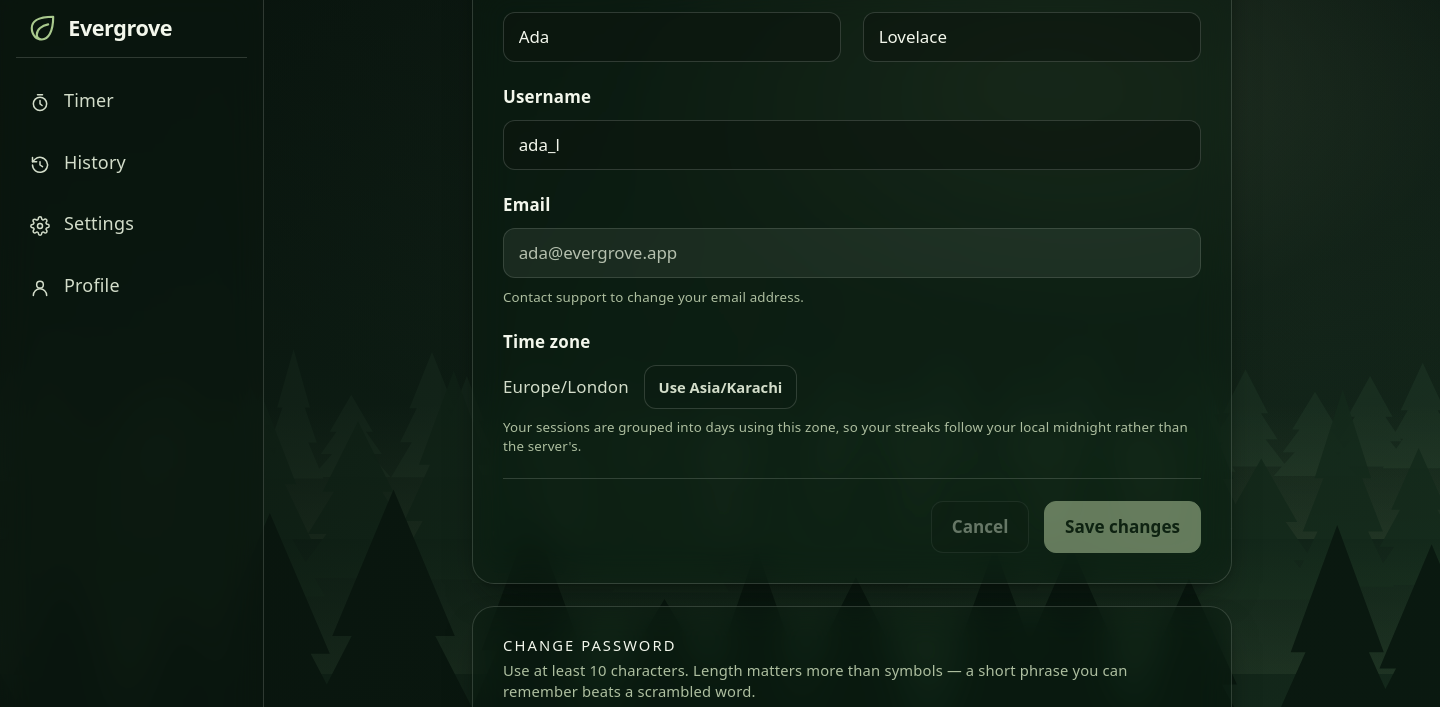
Test case: Suite J4 — Saving › J4.2 — offers the zone the browser reports and saves it when accepted
The image size is (1440, 707).
(page scrolled)
Expected: the text "Europe/London" is shown, [503,374,629,400]
Click the button "Use Asia/Karachi". click: (720, 387)
box: [644,364,797,409]
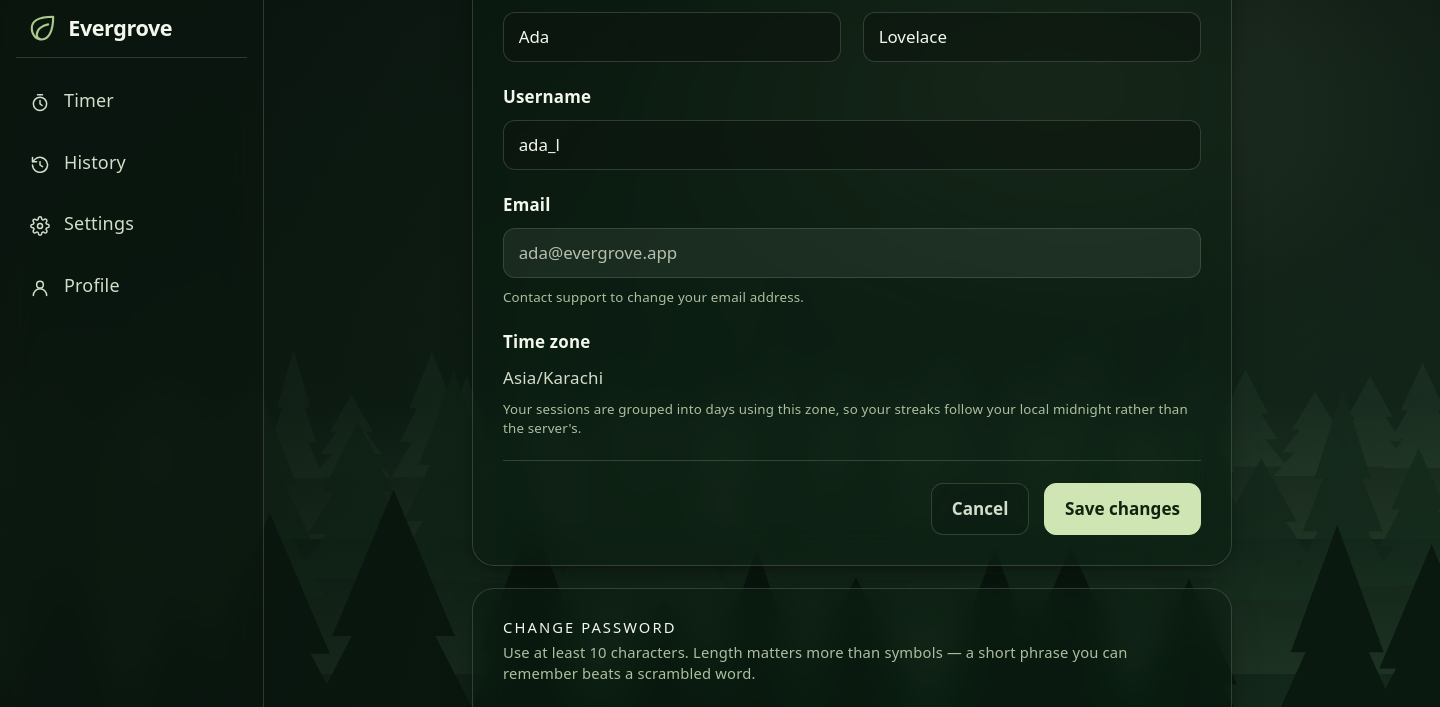
Result: the text "Asia/Karachi" is shown at [503,364,603,391]
Click the button "Save changes". click: (1122, 509)
box: [1044,483,1201,535]
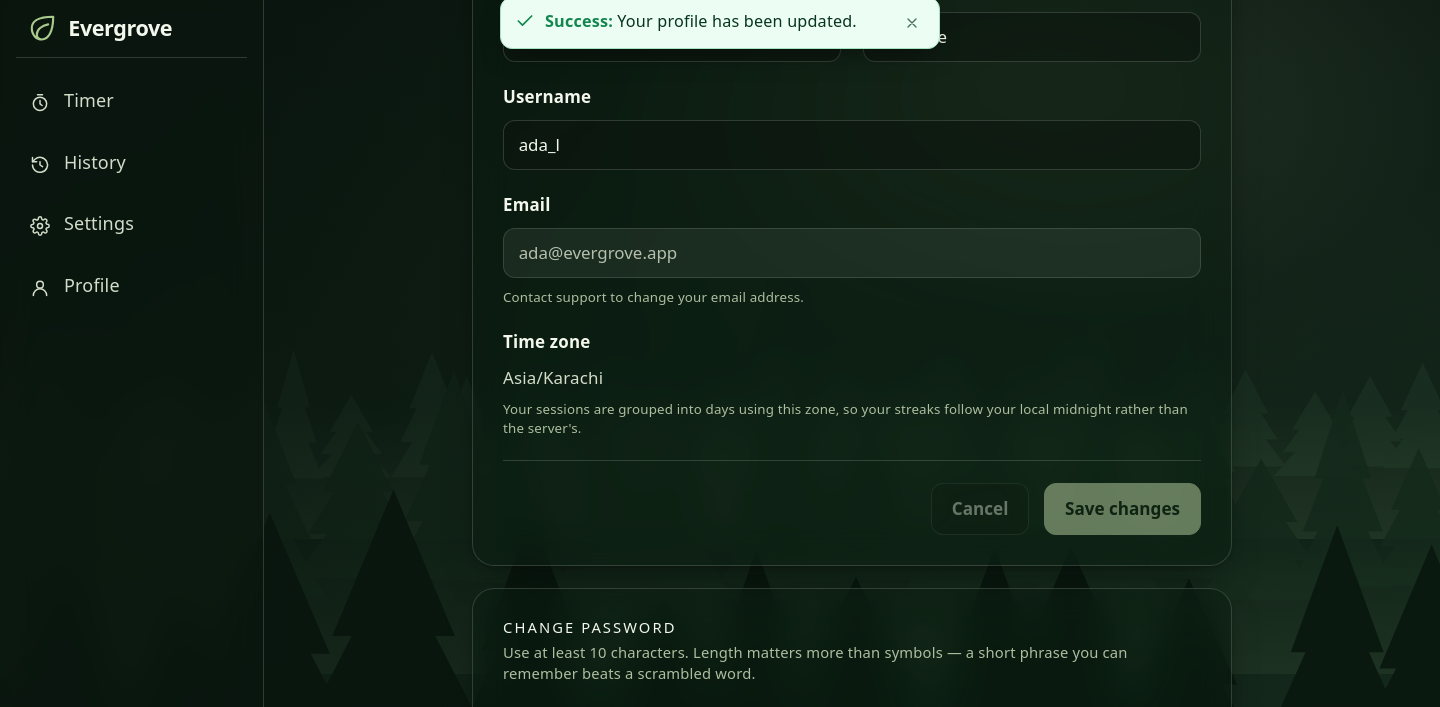
Result: the text "Success: Your profile has been updated." is shown at [545,10,889,34]
